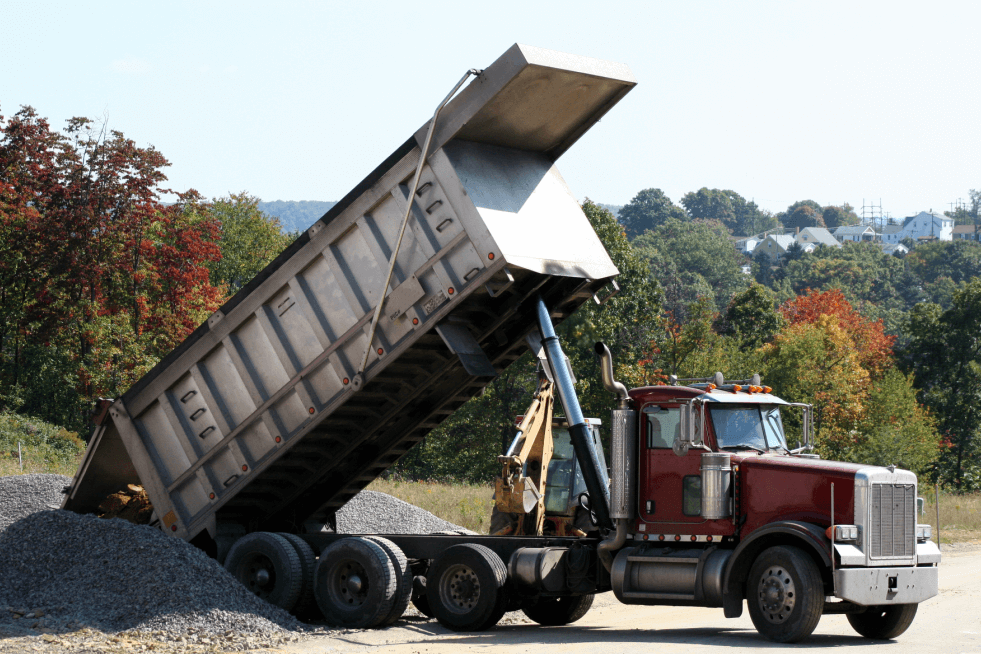truck: (59, 37, 946, 644)
